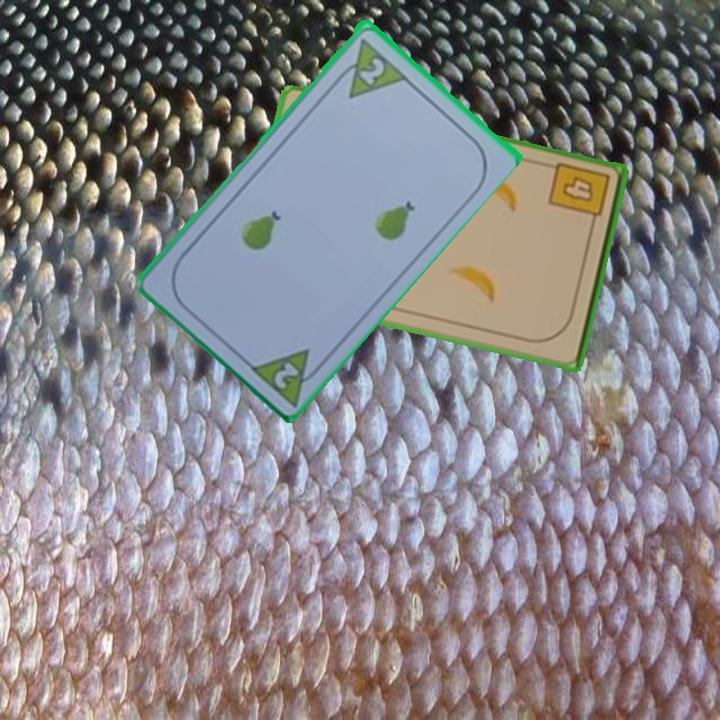2p: (330, 33, 408, 101), (270, 357, 303, 392)
4b: (545, 158, 613, 232)
